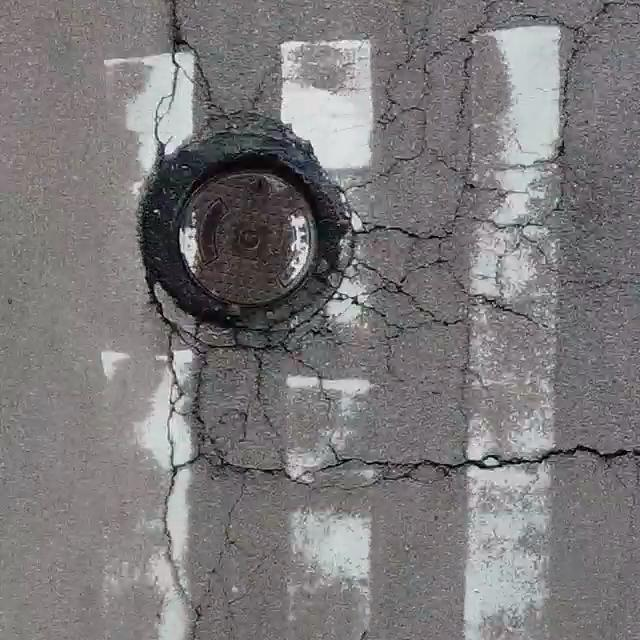GRIETA: (468, 443, 627, 470), (586, 2, 639, 23), (170, 0, 180, 30)
PIEL DE COCODRILO: (145, 10, 595, 639), (151, 29, 308, 174)
